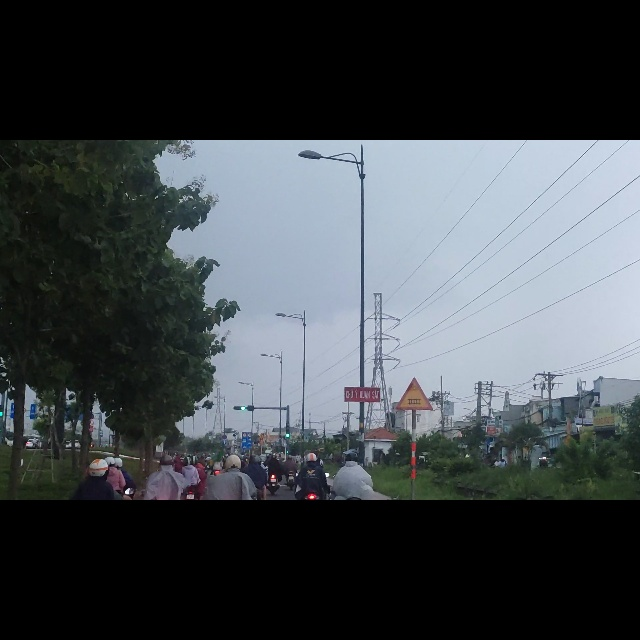bien_chi_dan: (395, 423, 432, 482), (222, 533, 227, 542)
